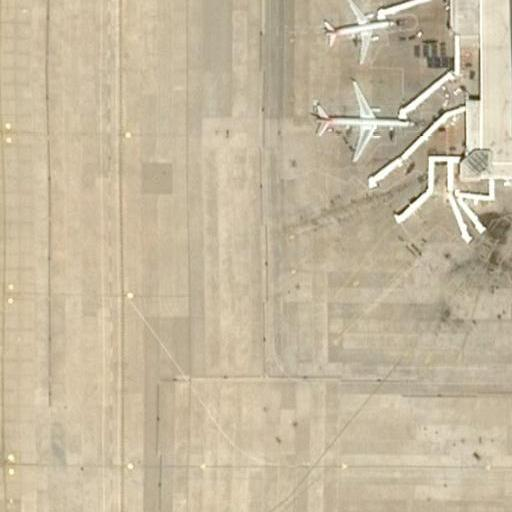Aircraft: (305, 78, 406, 159), (318, 0, 395, 59)
